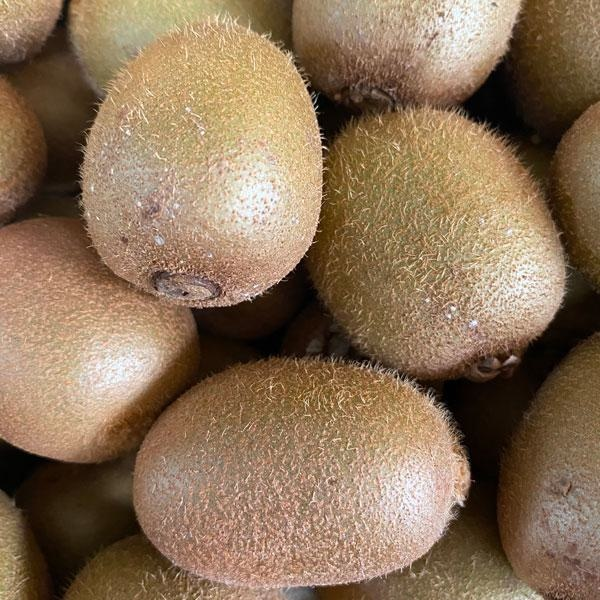apple: (0, 0, 600, 600), (77, 15, 325, 309)
apricot: (0, 0, 600, 600), (131, 354, 472, 589), (77, 15, 326, 309)
banana: (0, 0, 600, 600)
grapes: (0, 0, 600, 600), (77, 13, 325, 309)
kiwi: (0, 0, 600, 600)
melon: (0, 0, 600, 600), (77, 15, 325, 309)
potato: (0, 0, 600, 600), (77, 15, 325, 309)
